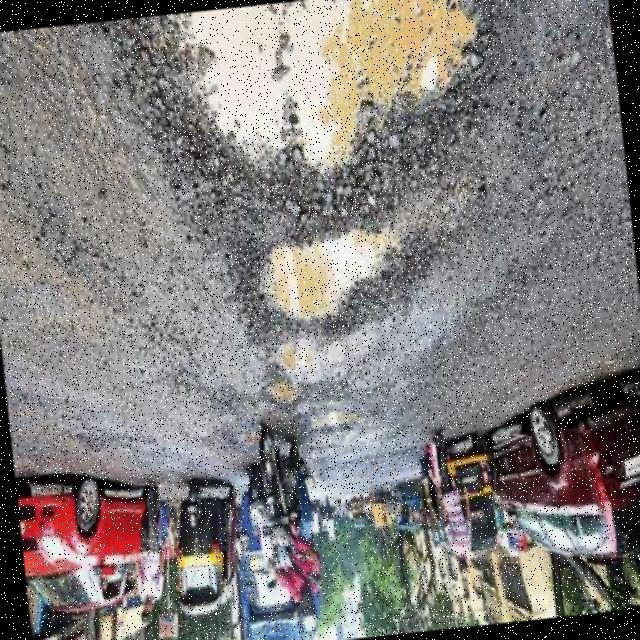Pothole: (189, 0, 478, 166), (271, 229, 389, 317)
